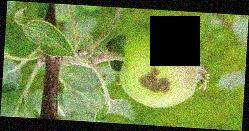rotten apple: (115, 25, 201, 109)
